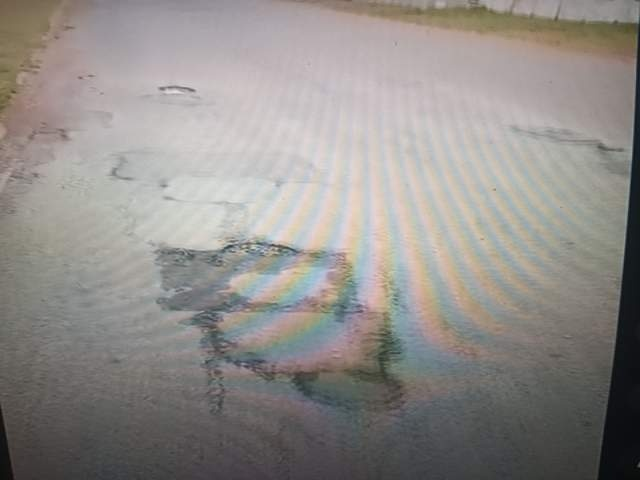pothole: (153, 404, 380, 480), (104, 403, 313, 480)
